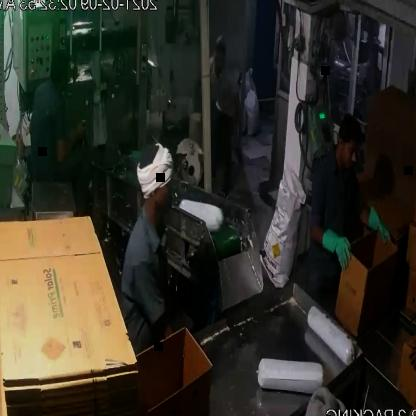glove: (316, 222, 358, 276), (365, 202, 394, 254)
no_glove: (41, 111, 88, 176), (223, 77, 246, 152), (400, 324, 416, 378)
